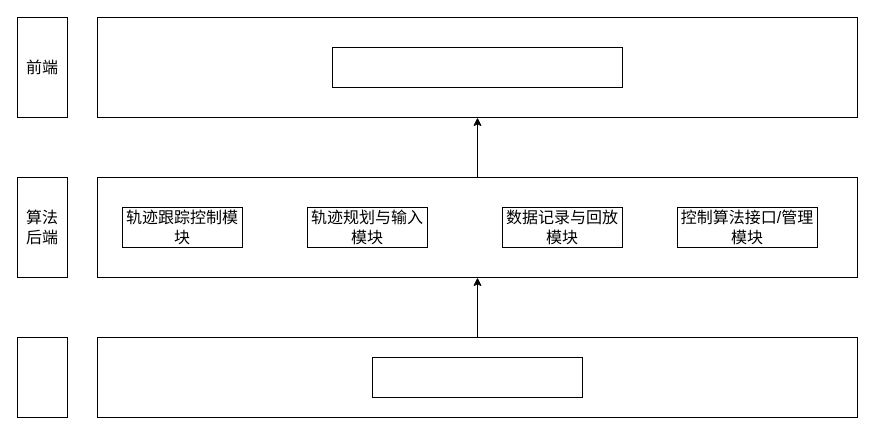
Image size: 875x435. Some labels were removed from this diagram. The shapes that lost their labels are listed below. From the top down, each one's centre as x and y in pixels, then its label:
At (x=477, y=67): "UI可视化展示模块".
At (x=42, y=377): "数据 收集".
At (x=477, y=377): "车辆状态/传感器融合模块".
